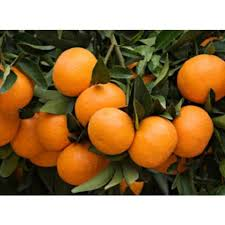orange: (177, 53, 225, 109), (134, 115, 176, 172), (172, 104, 212, 162), (51, 46, 95, 95), (90, 107, 132, 157), (78, 80, 124, 124), (37, 110, 80, 150), (61, 144, 105, 183)
